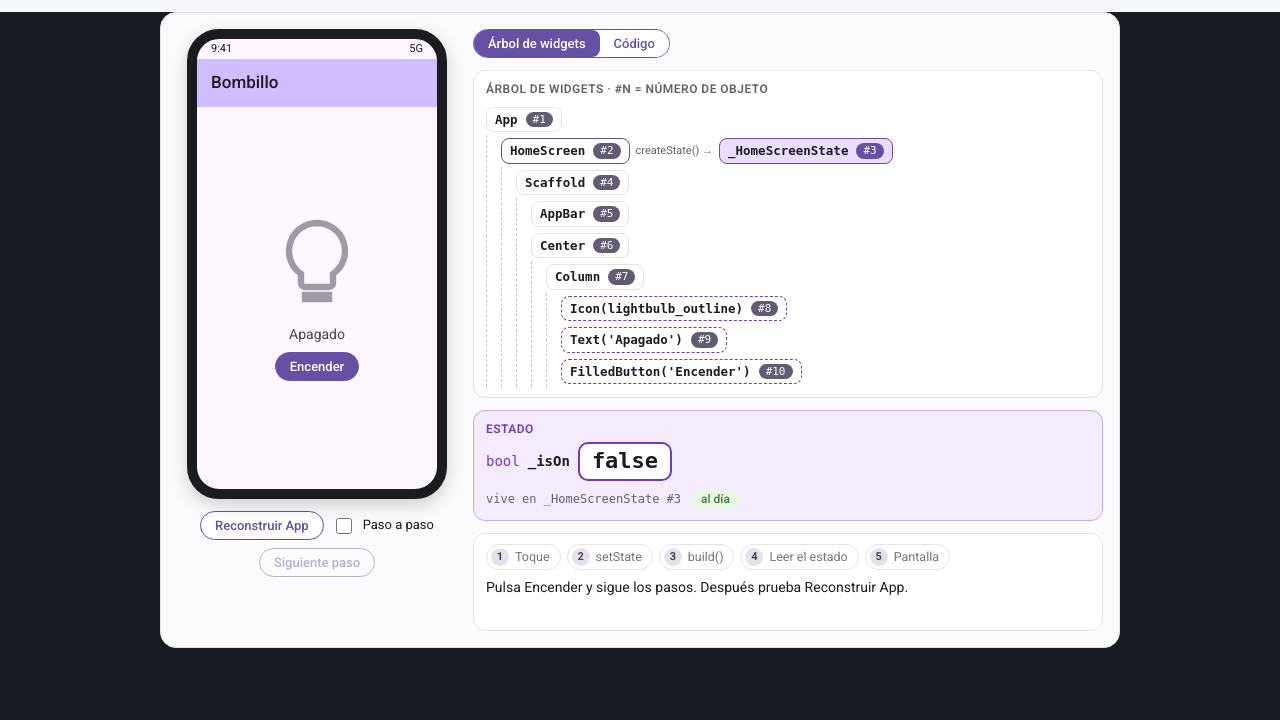
Test case: state-tree › switches between the tree and the code without touching the state
The width and height of the screenshot is (1280, 720).
Step 1. Click the button "Encender" → [317, 367], box [275, 352, 359, 381]
Wait 1100 ms
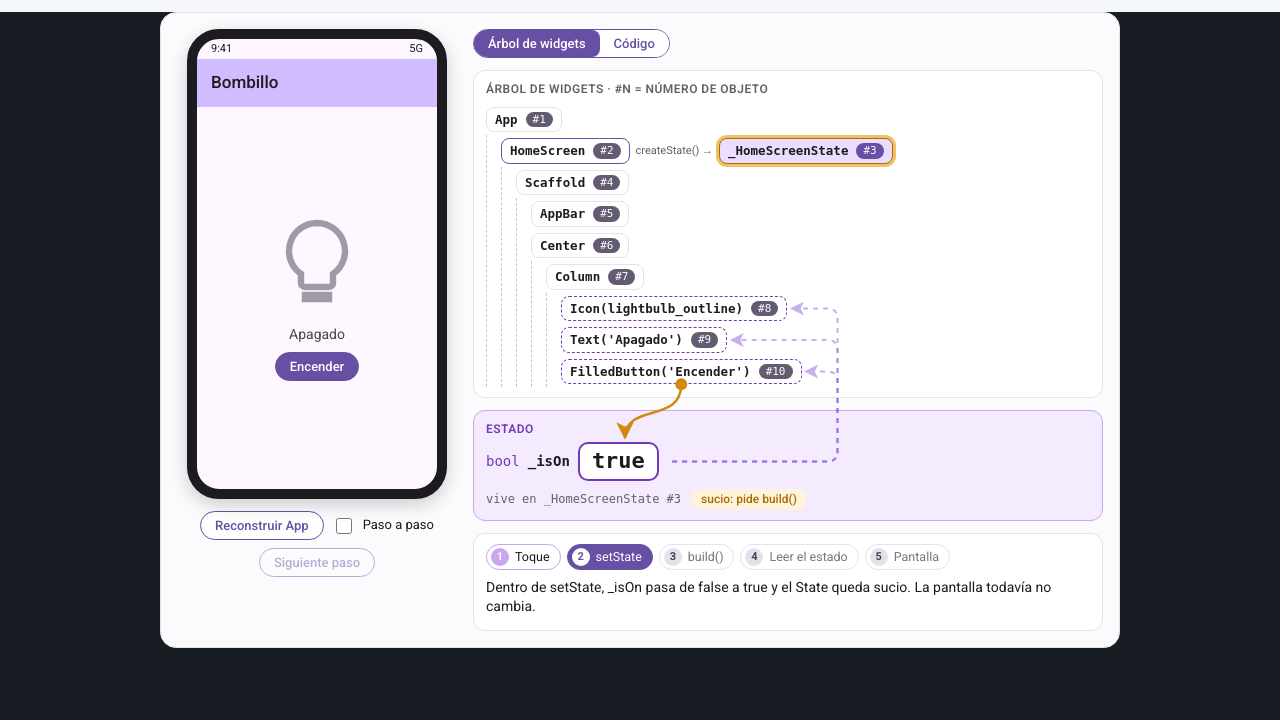
Step 2. Click the button "Código" → [634, 44], box [600, 30, 669, 57]
Wait 5500 ms
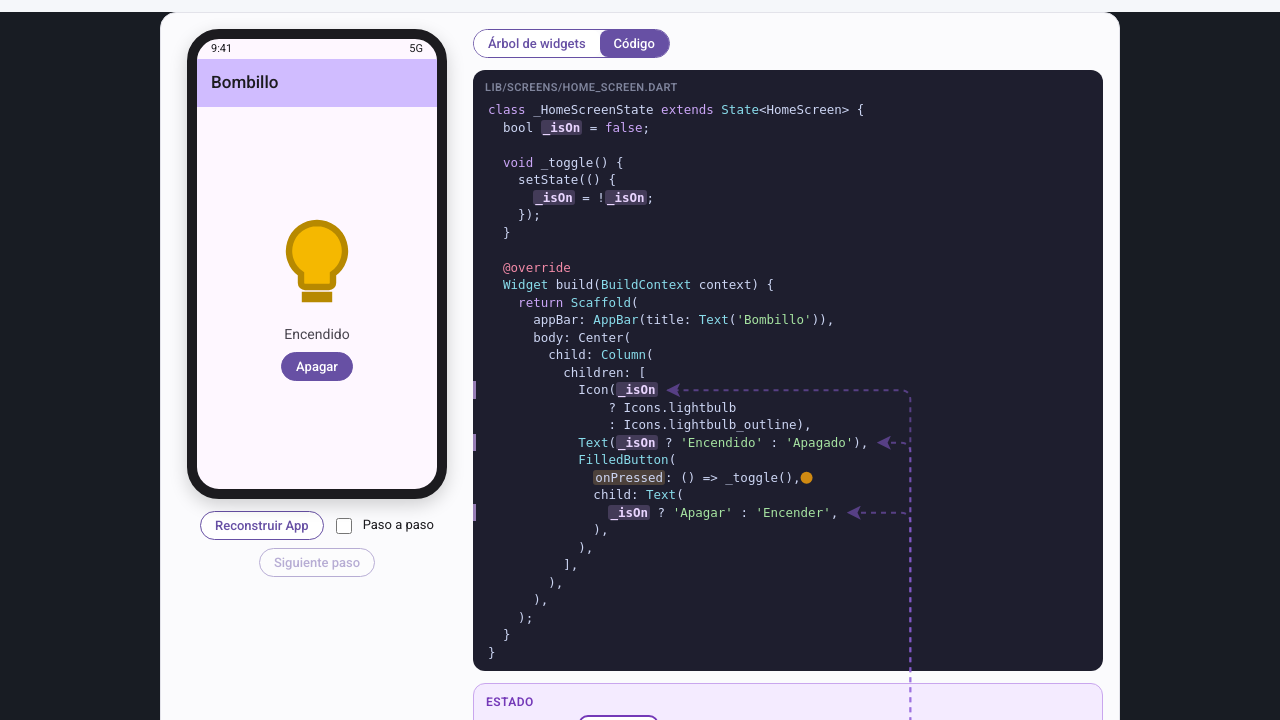
Expected: the text with test id "bulb-text" reads "Encendido", [284, 326, 350, 342]
Step 3. Click the button "Árbol de widgets" → [537, 44], box [474, 30, 600, 57]
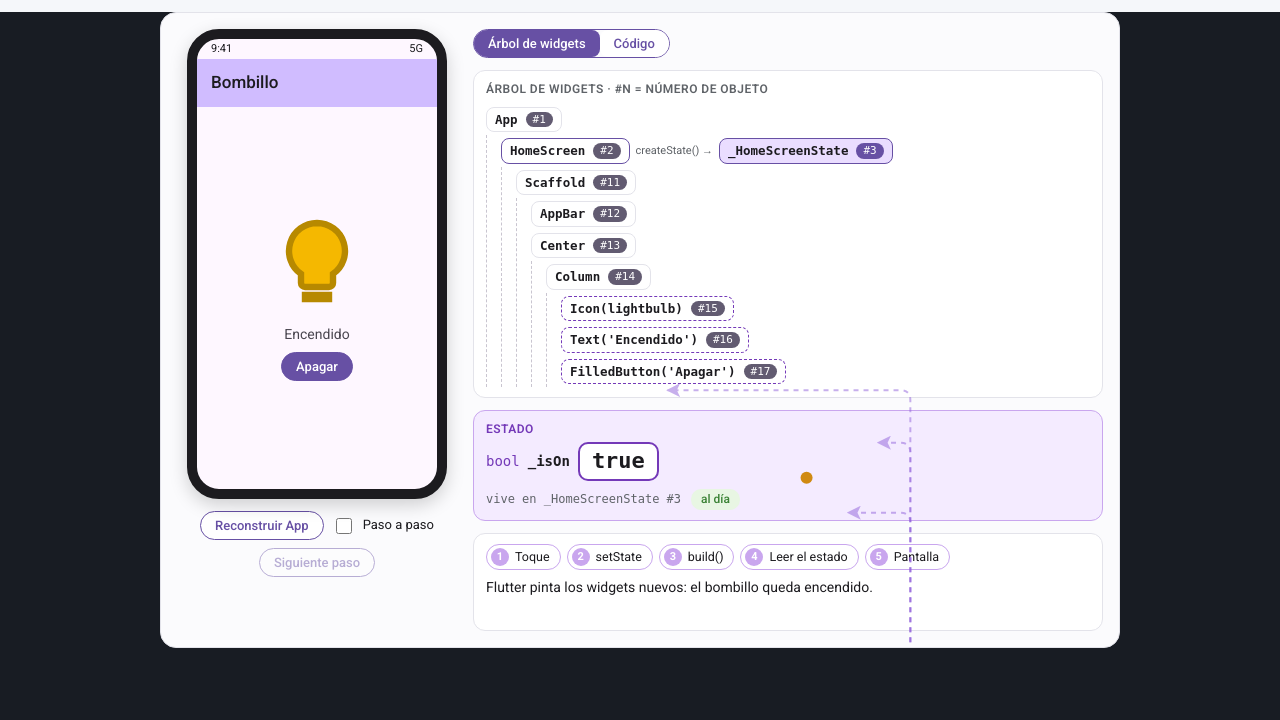
Expected: the text "Text('Encendido')" is shown, [570, 331, 698, 349]
